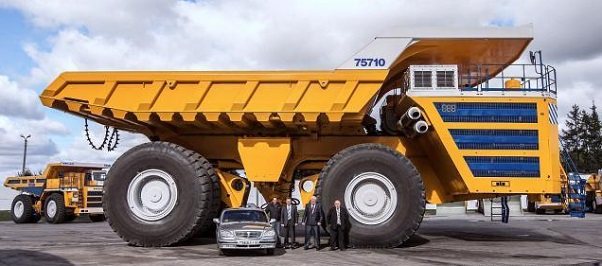truck: (38, 32, 562, 251)
